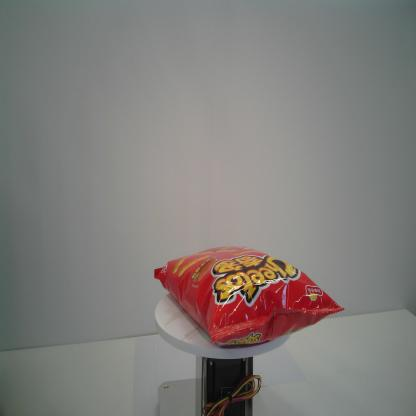Puffed Food: (153, 244, 345, 347)
